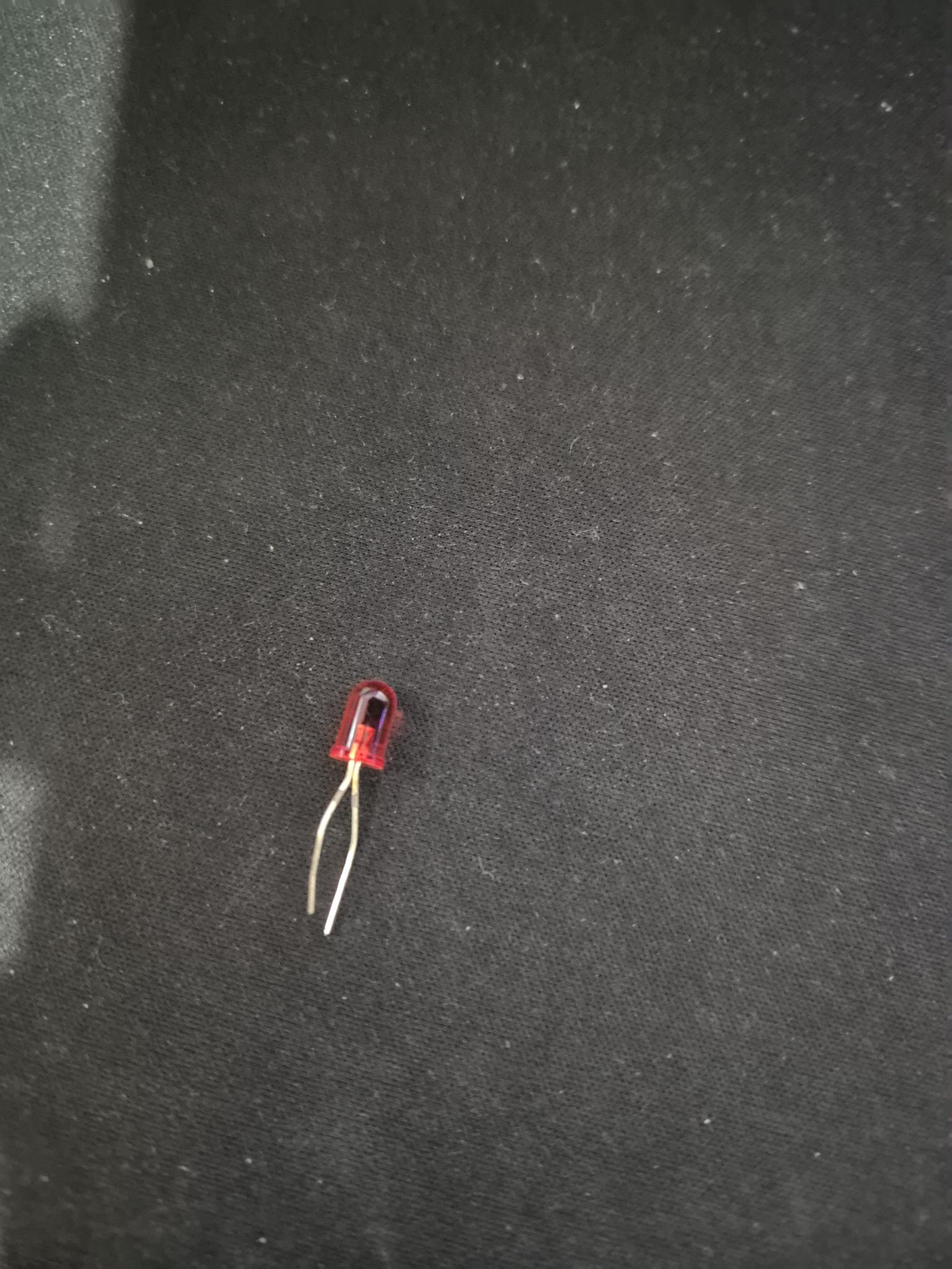led-diode: (321, 680, 401, 933)
